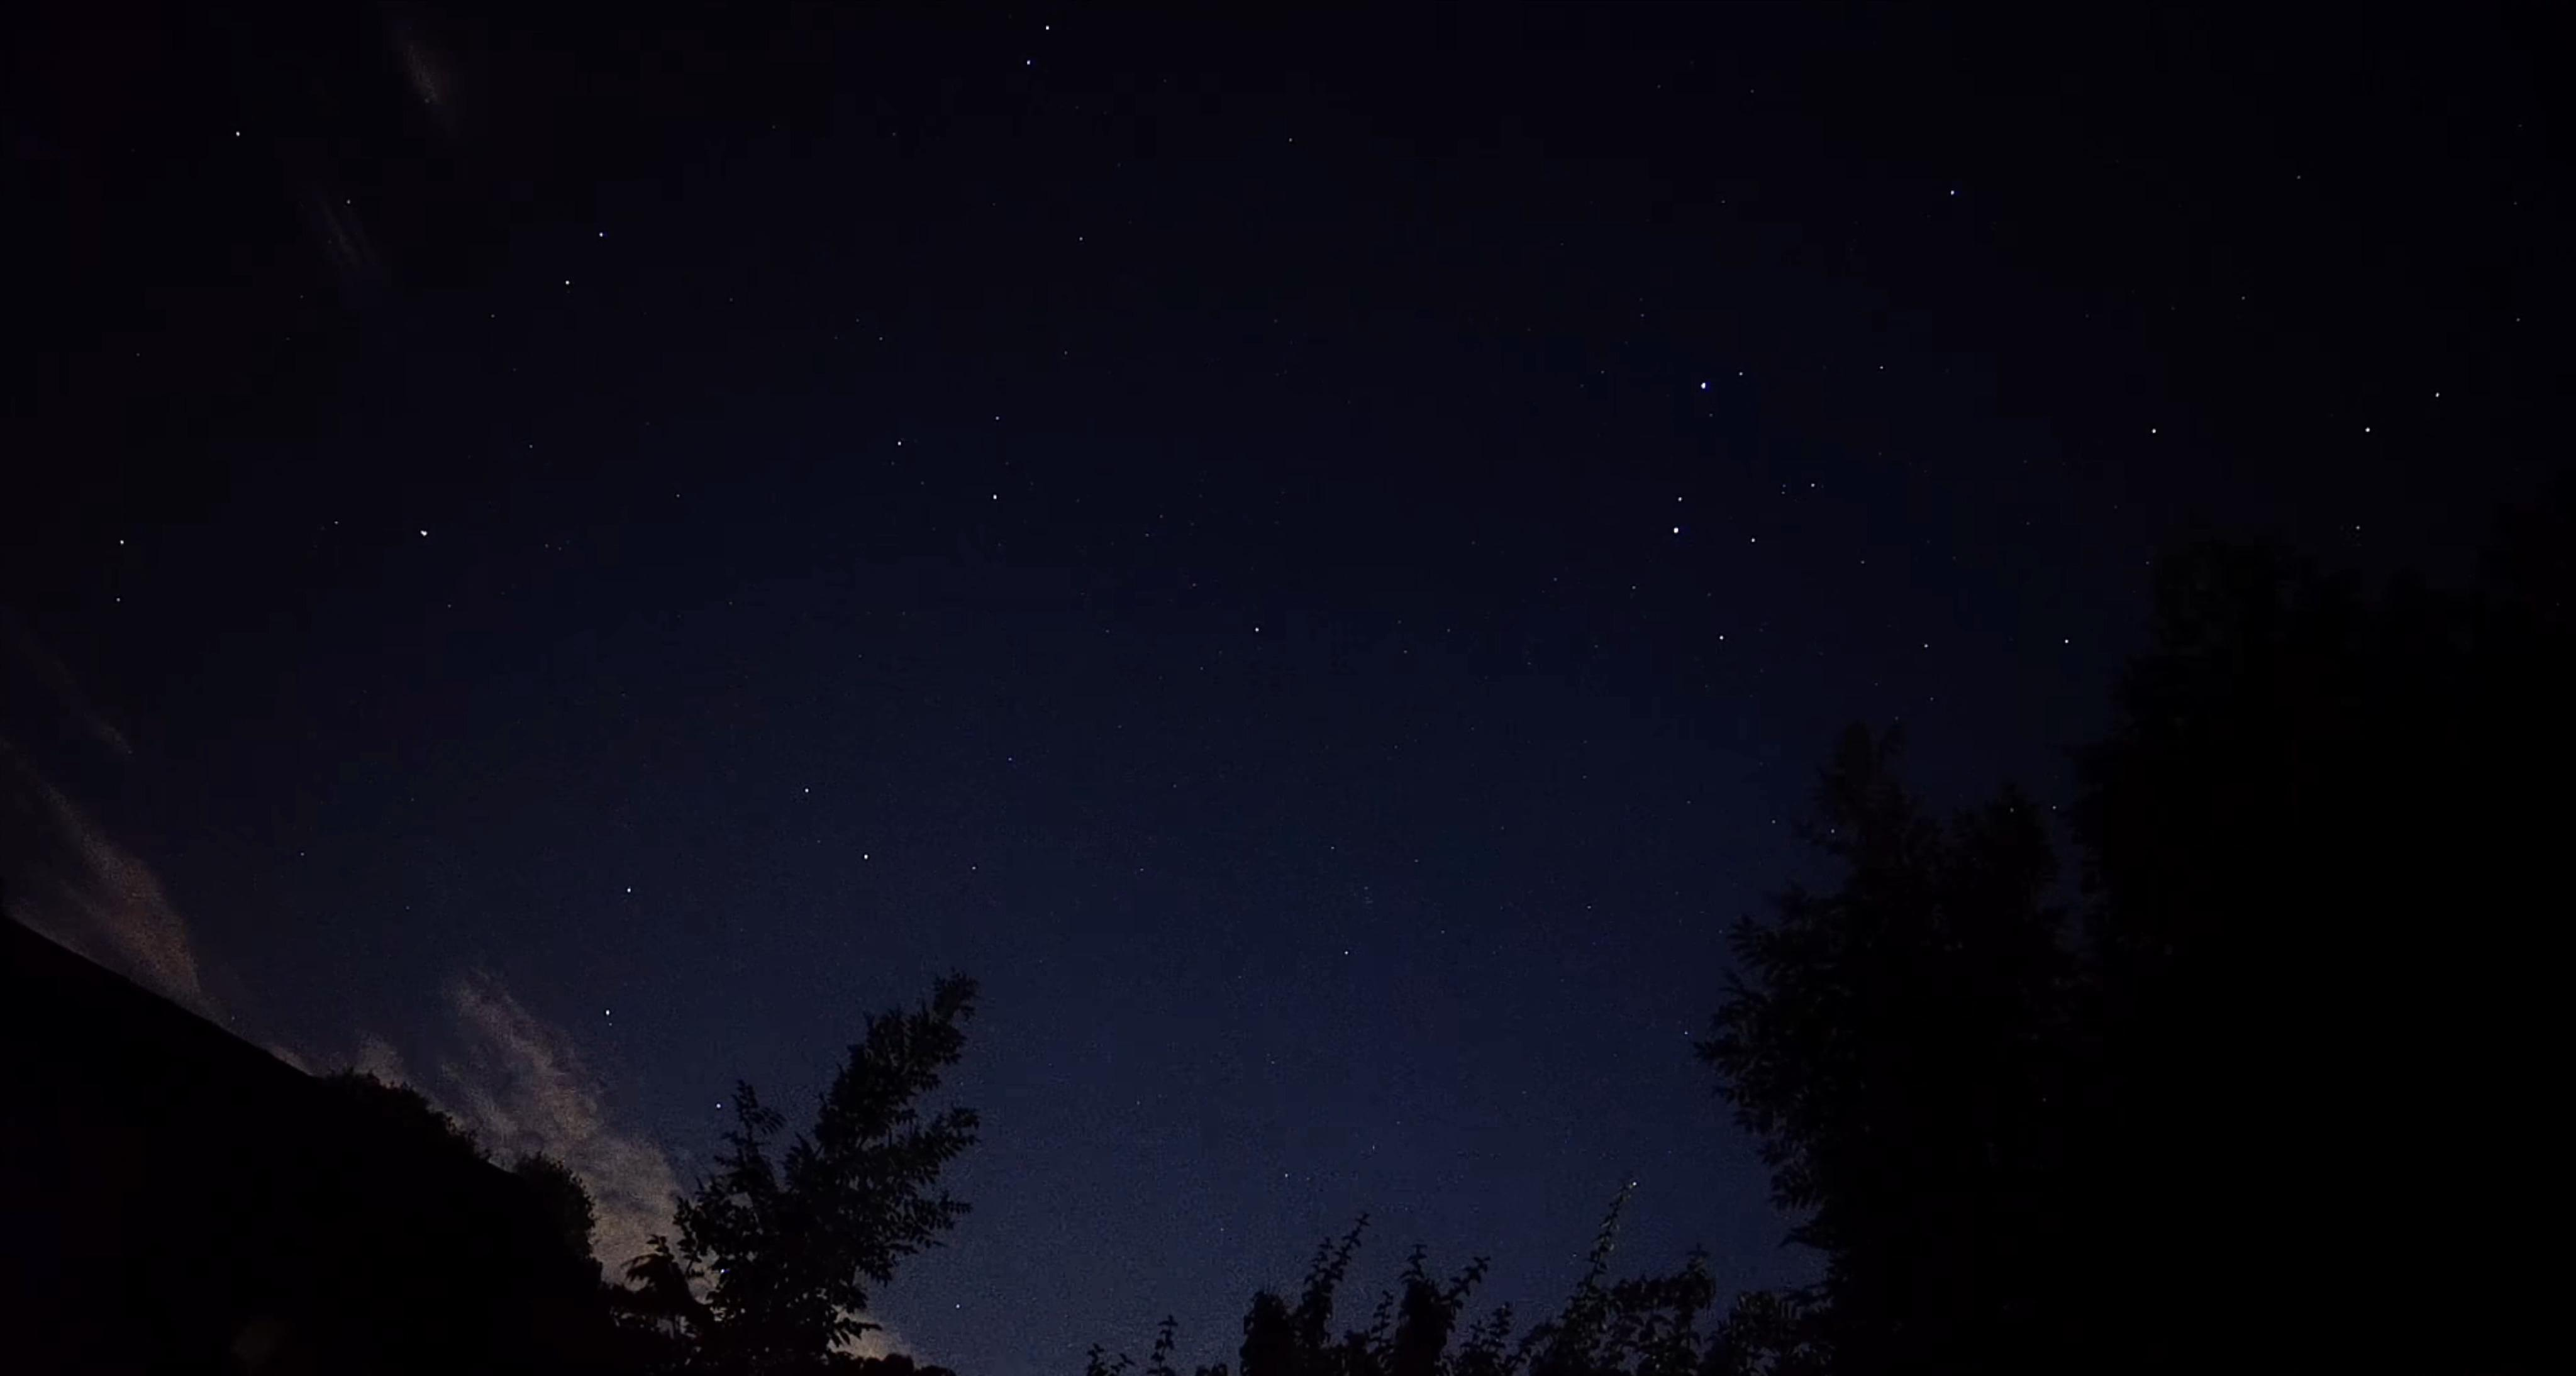Plane: (402, 511, 446, 555)
